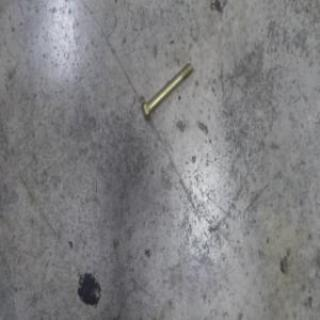Bolttrack_idkeyframe: (138, 62, 191, 122)
